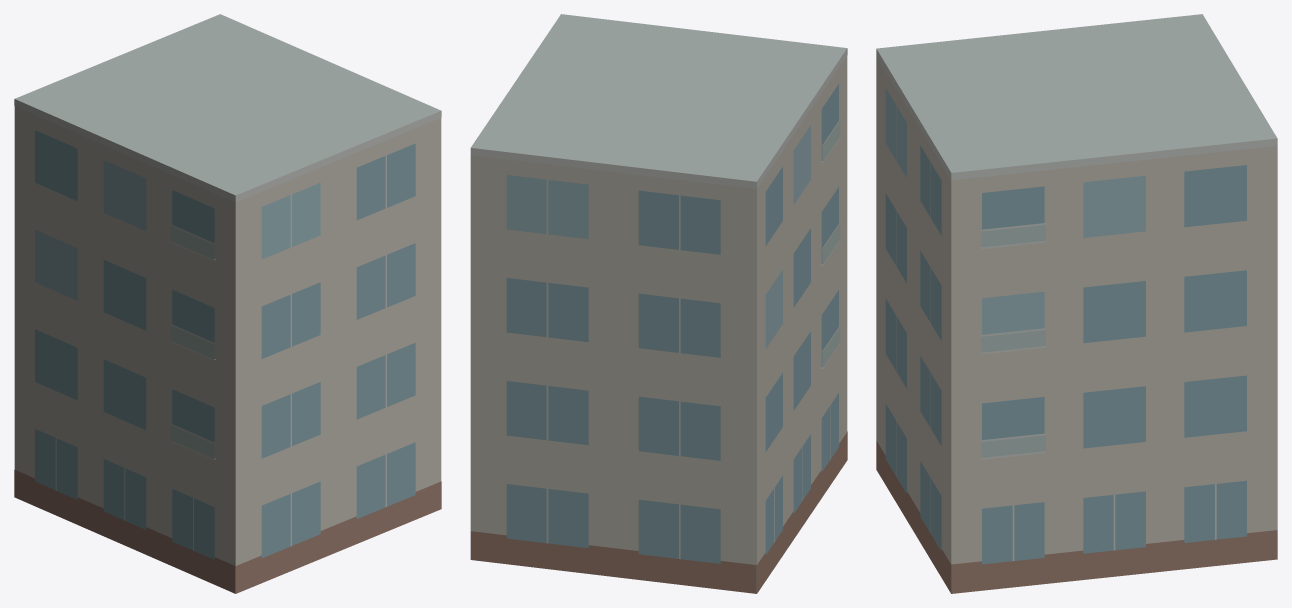
File: survey-upis-32917923.glb
3 renders of one model, left to right at view 1: azimuth 30°, elevation 25°; view 2: azimuth 150°, elevation 25°; view 3: azimuth 270°, elevation 25°, orthographic. The views are drawn at different scales.
Parts seen in each view (by area): view 1: survey-upis-32917923.tmp; view 2: survey-upis-32917923.tmp; view 3: survey-upis-32917923.tmp.
Part boxes in pixels (x1,y1,x2,y2): survey-upis-32917923.tmp: (14, 14, 441, 593); survey-upis-32917923.tmp: (470, 14, 847, 593); survey-upis-32917923.tmp: (876, 14, 1277, 593).
Size of the model in its own units: 11.3 by 13.95 by 12.06.
